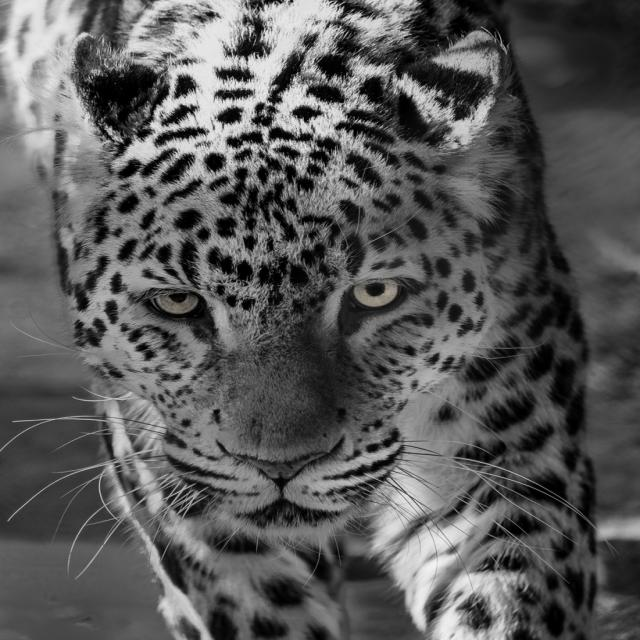Cheetah: (1, 0, 619, 639)
